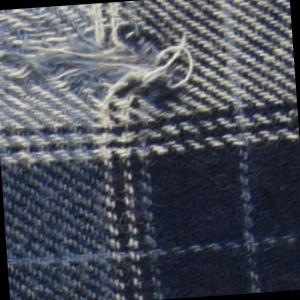Damage: (1, 1, 206, 144)
